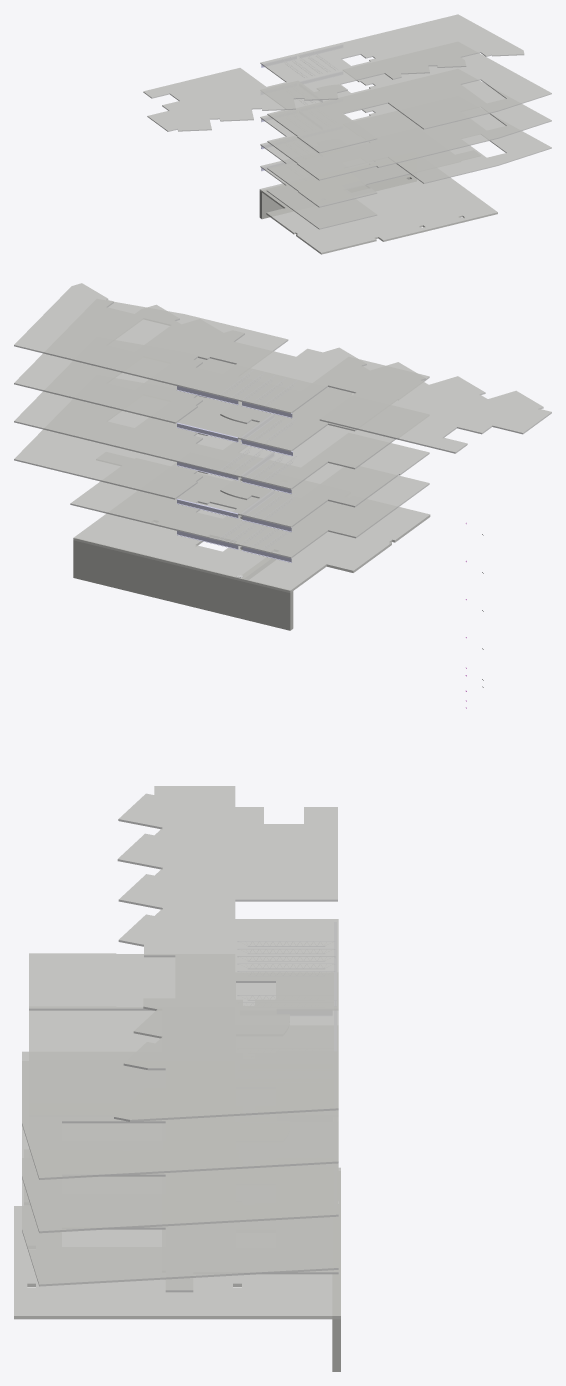
The model's file is ISSUE-001-neighbors.glb.
3 renders of one model, top to bottom at view 1: azimuth 30°, elevation 25°; view 2: azimuth 150°, elevation 25°; view 3: azimuth 270°, elevation 25°, orthographic. The views are drawn at different scales.
Parts seen in each view (by area): view 1: 4460 (×2), 5402 (×2), 5379 (×2), 3844, 4036 (×2), 4006 (×2), 3928; view 2: 4460 (×2), 5379 (×2), 4036 (×2), 5402 (×2), 4006 (×2), 3844, 3928; view 3: 4460 (×2), 5402 (×2), 5379 (×2), 4036 (×2), 3844.
Part boxes in pixels (bbox=[...]): 4460 (×2): bbox=[143, 14, 524, 131]; 5402 (×2): bbox=[267, 53, 551, 153]; 5379 (×2): bbox=[260, 80, 551, 180]; 3844: bbox=[259, 174, 497, 254]; 4036 (×2): bbox=[260, 114, 551, 207]; 4006 (×2): bbox=[260, 161, 409, 229]; 3928: bbox=[259, 178, 410, 219]; 4460 (×2): bbox=[14, 283, 551, 453]; 5379 (×2): bbox=[14, 391, 395, 489]; 4036 (×2): bbox=[14, 429, 429, 527]; 5402 (×2): bbox=[14, 301, 429, 451]; 4006 (×2): bbox=[70, 472, 429, 558]; 3844: bbox=[73, 472, 430, 592]; 3928: bbox=[73, 540, 293, 630]; 4460 (×2): bbox=[114, 786, 338, 1121]; 5402 (×2): bbox=[22, 953, 338, 1179]; 5379 (×2): bbox=[22, 1010, 338, 1233]; 4036 (×2): bbox=[22, 1176, 338, 1286]; 3844: bbox=[14, 1167, 340, 1319].
Size of the model in its own units: 63.76 by 23.34 by 37.24.
